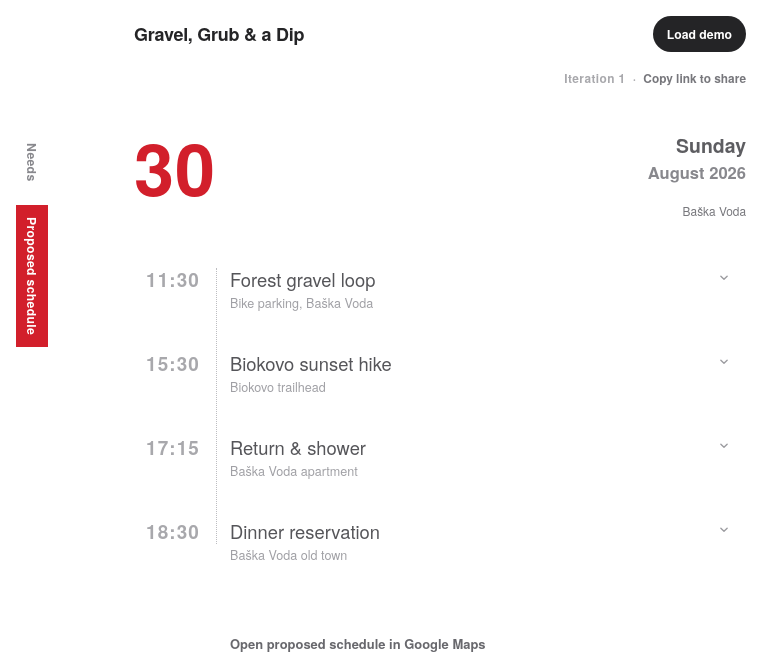
Test: daymaker.fun app › copies the current iteration link from the top of Proposed schedule
Expected: the text "Iteration 1" is shown, [564,70,626,87]
Click the button "Copy link to share" at {"x": 695, "y": 78}, box [643,70,746,87]
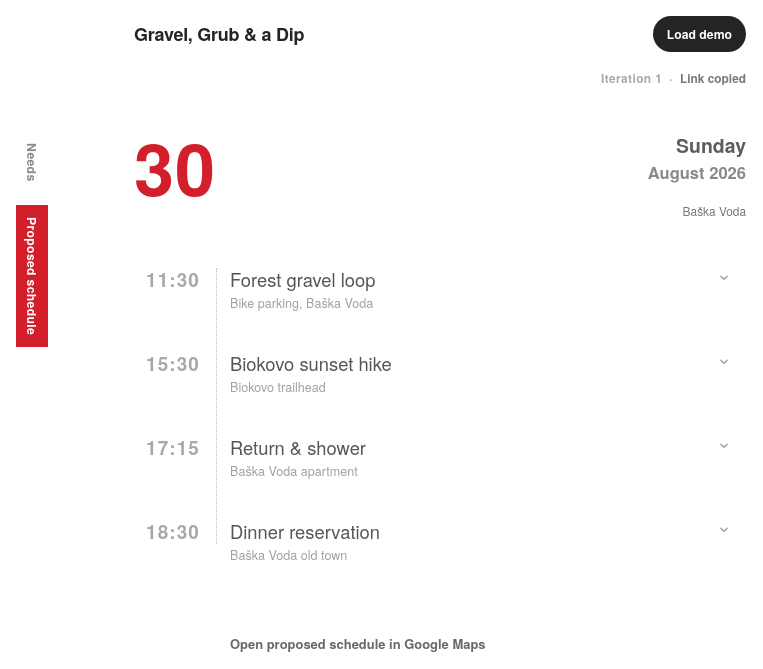
Result: the button "Link copied" is shown at [680,70,746,87]
